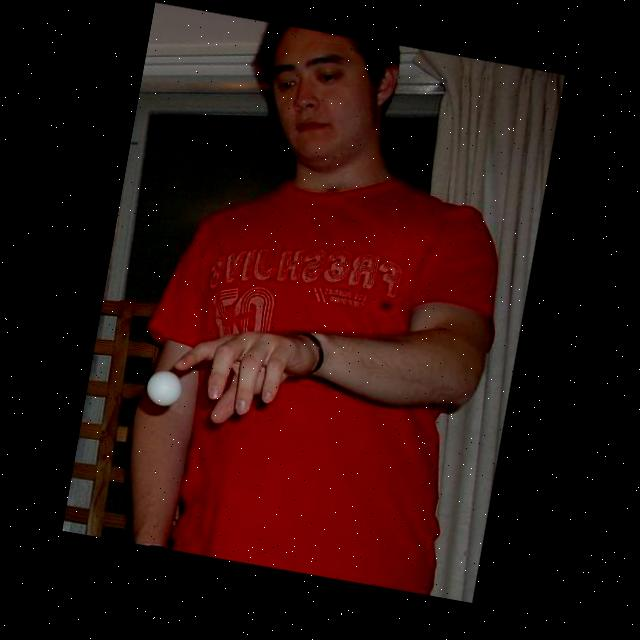ping-pong-ball: (143, 367, 183, 408)
